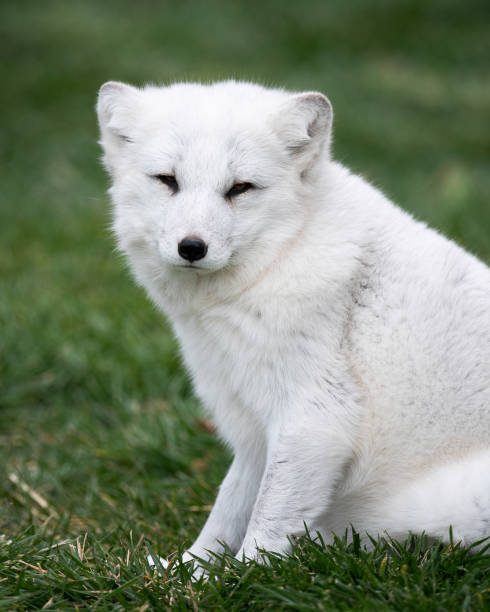arcticfox: (111, 91, 294, 302)
